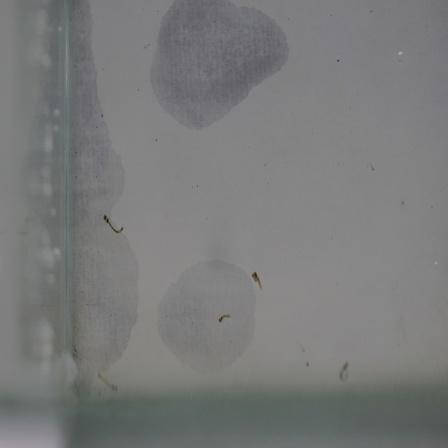Jentik-Nyamuk: (99, 209, 128, 239), (248, 267, 265, 293), (216, 309, 237, 329)
